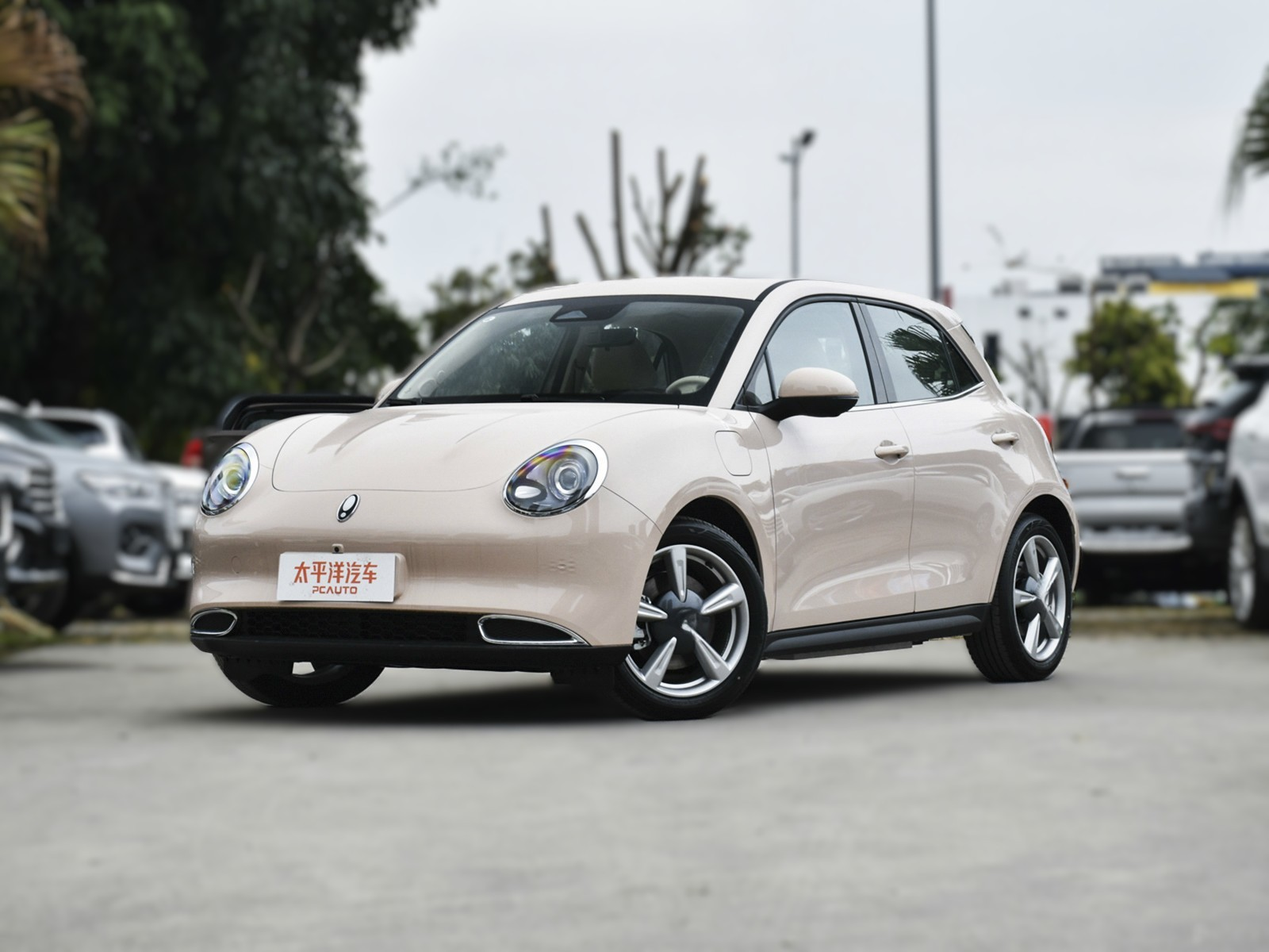ORA: (338, 493, 358, 522)
